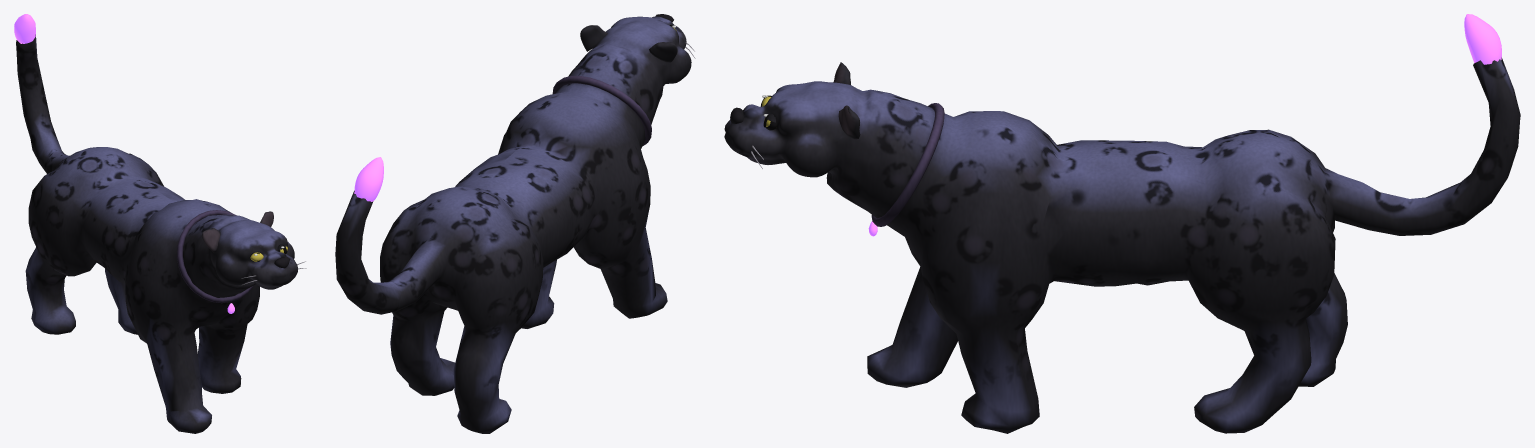
File: shadowpanther.fbx
3 renders of one model, left to right at view 1: azimuth 30°, elevation 25°; view 2: azimuth 150°, elevation 25°; view 3: azimuth 270°, elevation 25°, orthographic. The views are drawn at different scales.
Visible parts, largest first — view 1: ShadowPanther_Body, ShadowPanther_GLOW; view 2: ShadowPanther_Body, ShadowPanther_GLOW; view 3: ShadowPanther_Body, ShadowPanther_GLOW.
Boxes of the visible parts, x1=… form: ShadowPanther_Body: x1=16, y1=34, x2=306, y2=433; ShadowPanther_GLOW: x1=14, y1=14, x2=234, y2=313; ShadowPanther_Body: x1=335, y1=14, x2=695, y2=433; ShadowPanther_GLOW: x1=354, y1=157, x2=383, y2=201; ShadowPanther_Body: x1=724, y1=57, x2=1520, y2=433; ShadowPanther_GLOW: x1=868, y1=14, x2=1501, y2=236.
Size of the model in its own units: 1.4 by 3 by 5.54.
3 materials, 1 textured.
